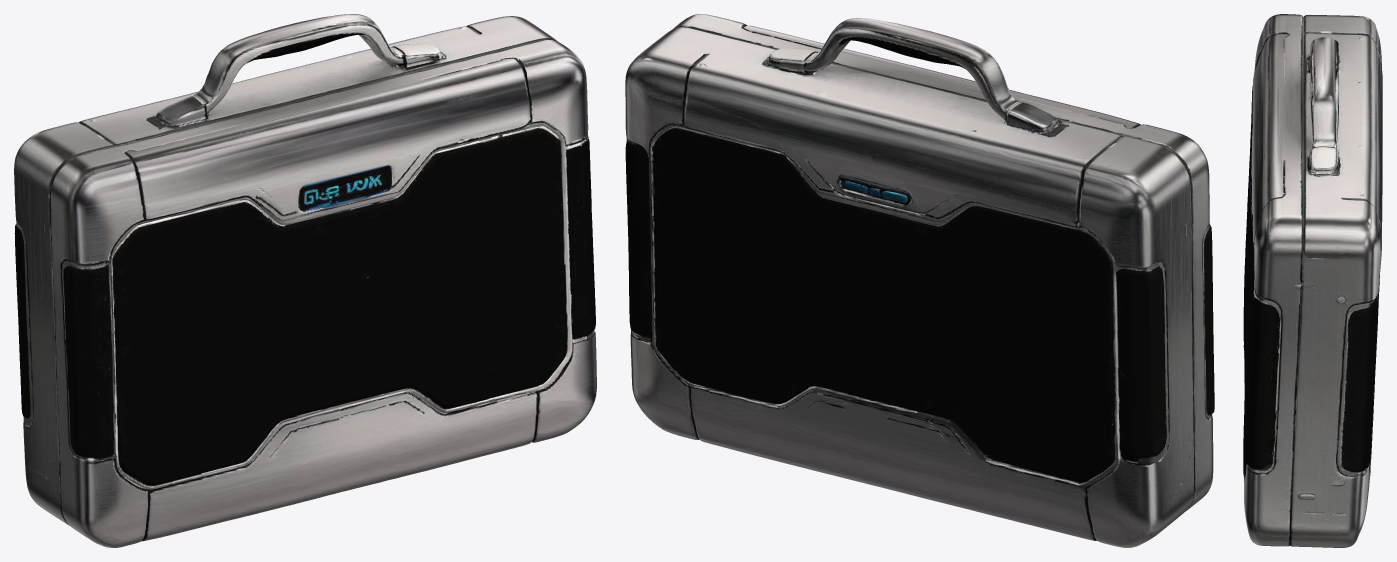
Rendered from Futuristic Briefcase.glb.
3 renders of one model, left to right at view 1: azimuth 30°, elevation 25°; view 2: azimuth 150°, elevation 25°; view 3: azimuth 270°, elevation 25°, orthographic. The views are drawn at different scales.
Visible parts, largest first — view 1: world; view 2: world; view 3: world.
Boxes of the visible parts, x1,y1,x2,y2 form: world: (14,14,596,547); world: (625,14,1214,547); world: (1243,14,1382,547).
Bounding box in the file's own units: 1.99 × 1.62 × 0.5204.
1 material, 1 textured.
